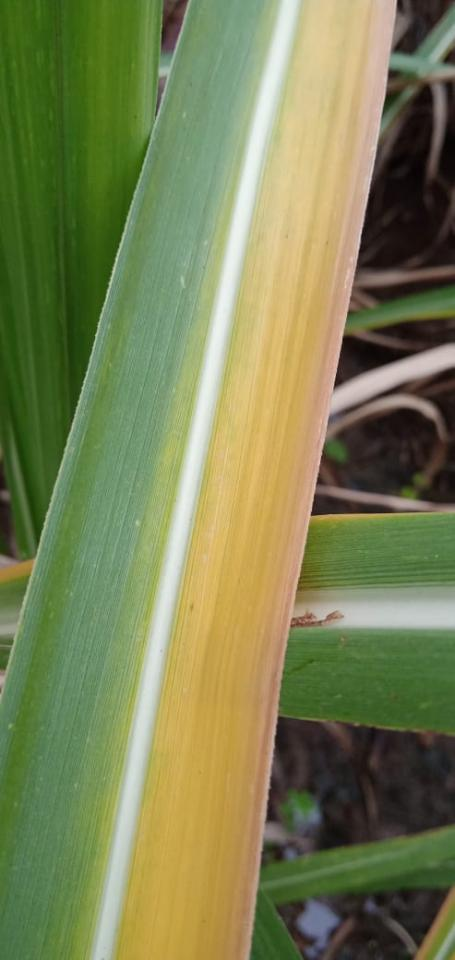Yellow: (113, 0, 398, 959), (0, 558, 34, 583)
